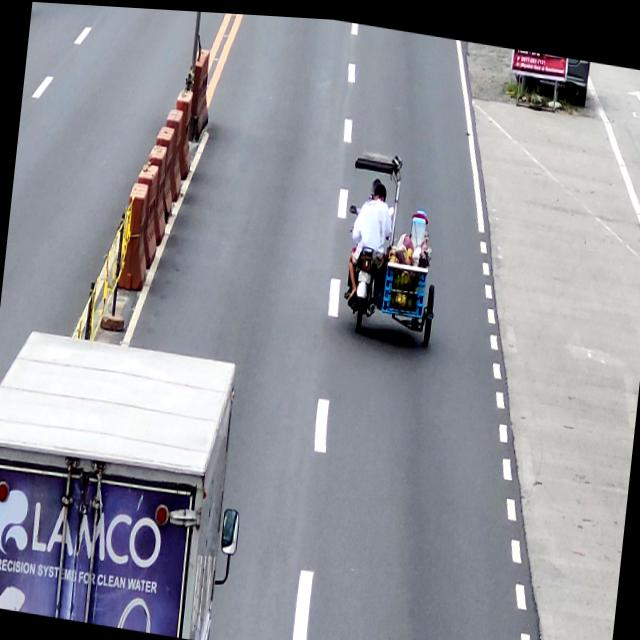License-Plate: (356, 265, 372, 281)
Tricycle: (336, 142, 451, 346)
Truck: (0, 323, 252, 640)
